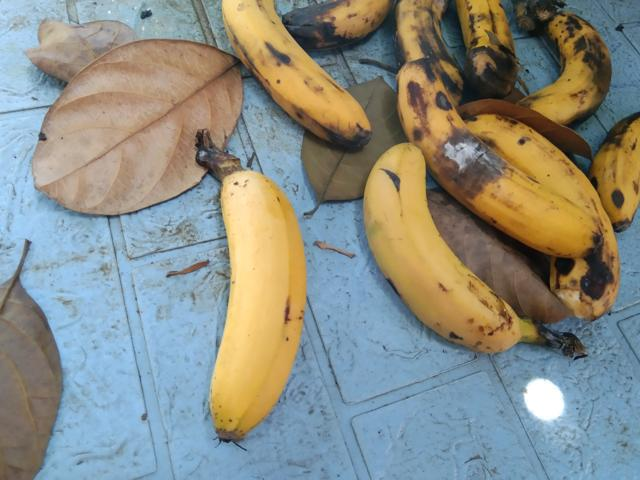freshripe: (184, 179, 344, 457)
ripe: (189, 0, 395, 170), (363, 153, 524, 363)
rotten: (397, 50, 600, 259)
